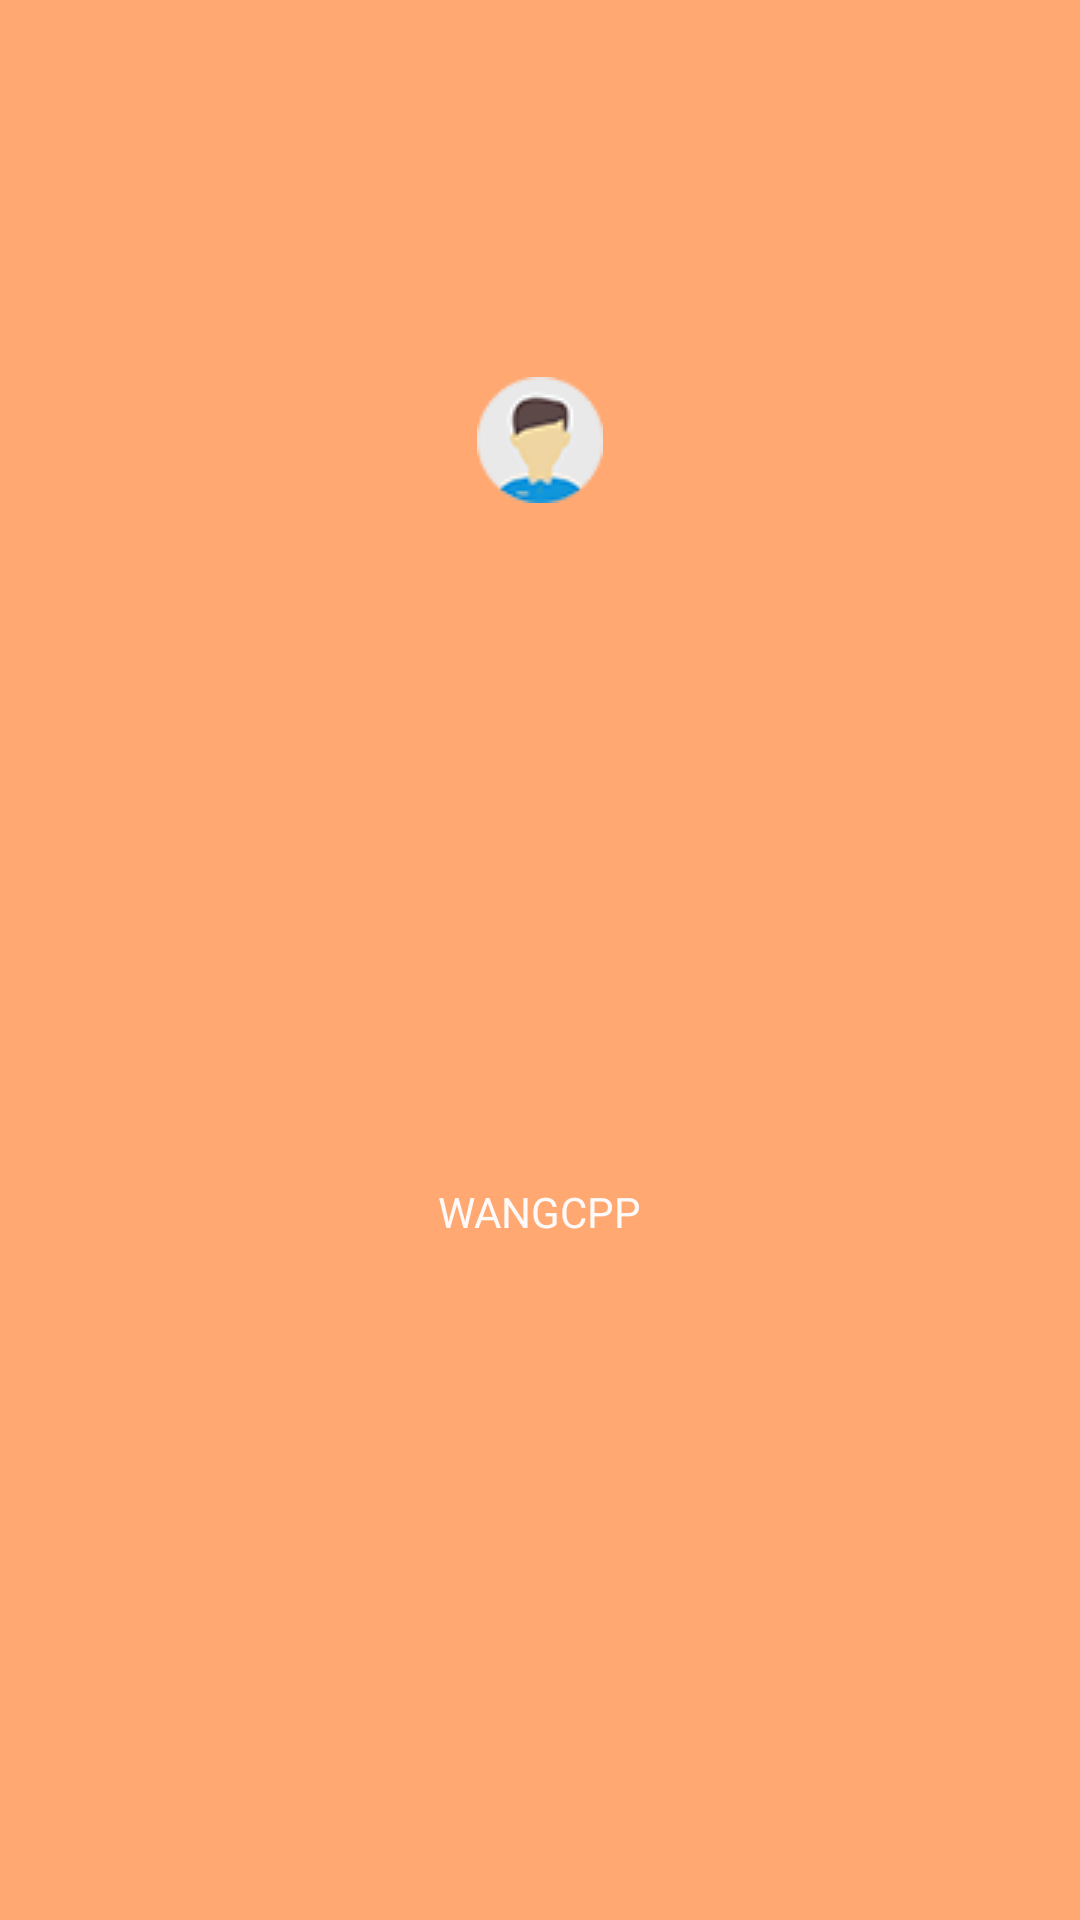

Where icons sit on this 1080 × 1920 app screen, as (x1, y1, x2, y2):
user: (477, 377, 603, 503)
